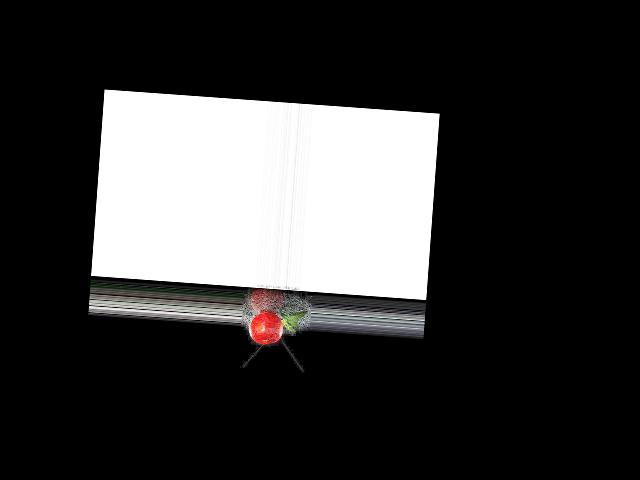tomato: (248, 311, 284, 345)
